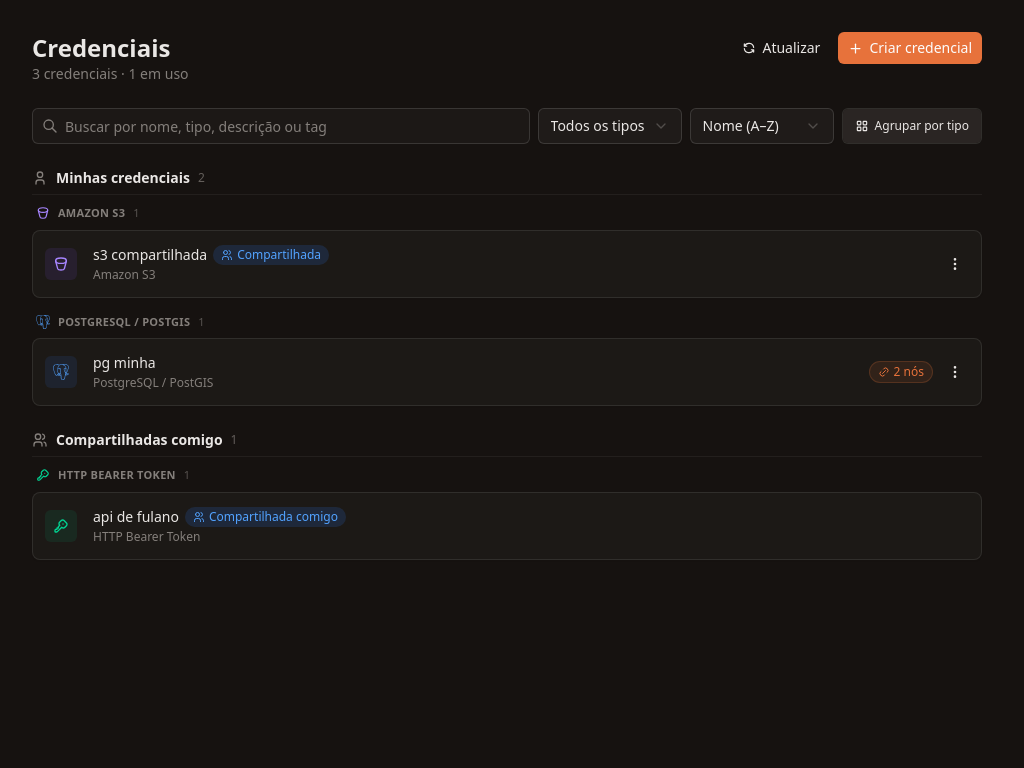
Test case: Lista de credenciais — busca › filtra pelos termos digitados
The image size is (1024, 768).
Expected: the text "pg minha" is shown, left=93, top=353, right=156, bottom=373
In the field named "buscar credenciais": (281, 126) left=32, top=108, right=530, bottom=144, type "fulano"
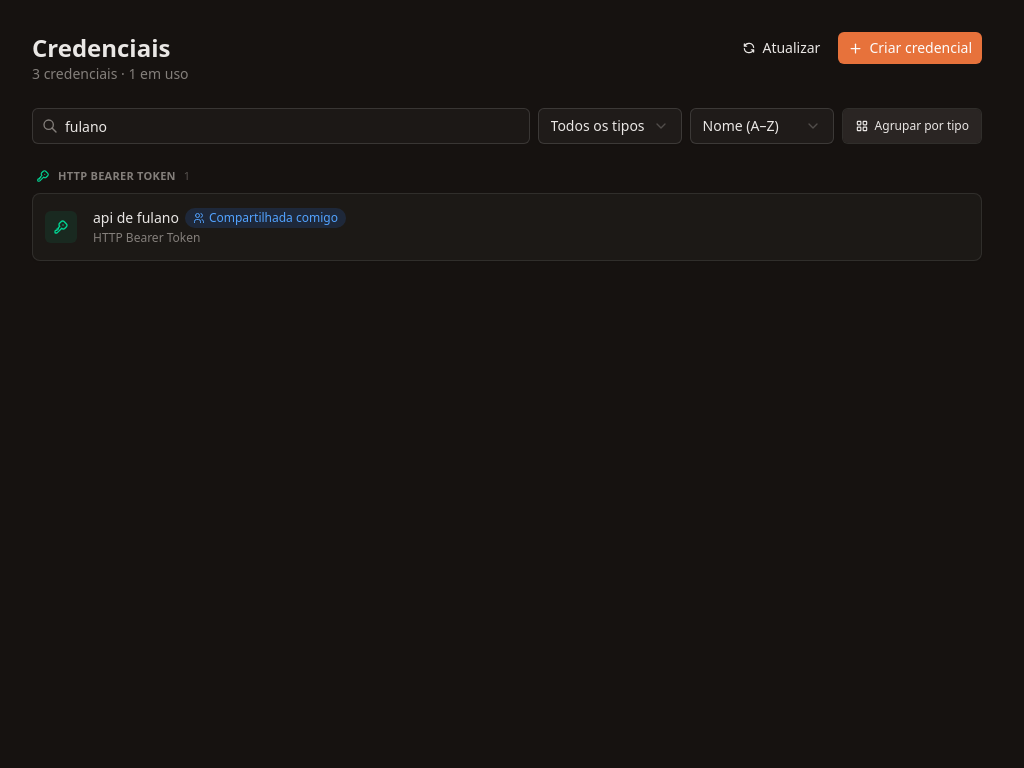
Expected: the text "api de fulano" is shown, left=93, top=208, right=179, bottom=228
Expected: the text "pg minha" is gone
Expected: the text "s3 compartilhada" is gone
